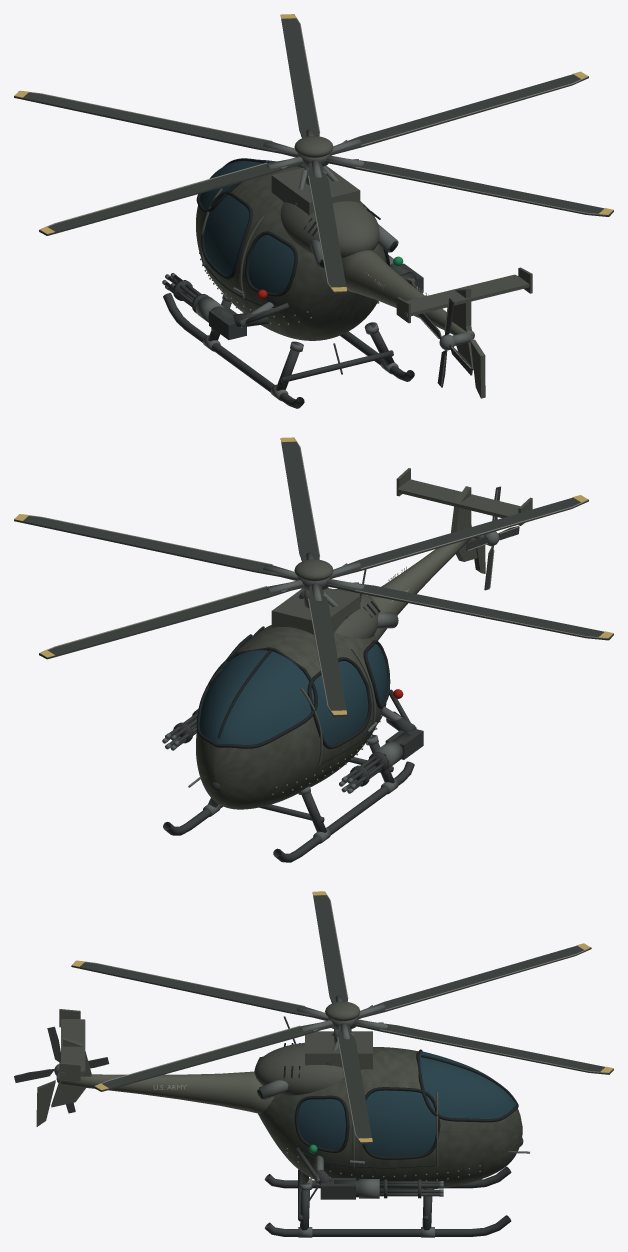
Rendered from ah6-centurion.glb.
3 views of the same model, one above another, from view 1: azimuth 30°, elevation 25°; view 2: azimuth 150°, elevation 25°; view 3: azimuth 270°, elevation 25° (orthographic). The views are drawn at different scales.
Visible parts, largest first — view 1: Main rotor blades, Fuselage, Tail, Canopy, Landing skids, Window frames, Main rotor, Weapon mounts, Weapons, Tail rotor blades; view 2: Main rotor blades, Fuselage, Canopy, Tail, Window frames, Landing skids, Weapons, Main rotor, Weapon mounts, Tail rotor blades; view 3: Fuselage, Main rotor blades, Canopy, Tail, Landing skids, Window frames, Main rotor, Weapons, Weapon mounts, Tail rotor blades.
Boxes of the visible parts, <box> form: Main rotor blades: <box>14,14,613,293</box>; Fuselage: <box>196,165,398,340</box>; Tail: <box>341,250,532,398</box>; Canopy: <box>199,159,294,292</box>; Landing skids: <box>163,293,414,408</box>; Window frames: <box>196,158,390,307</box>; Main rotor: <box>263,129,364,177</box>; Weapon mounts: <box>209,263,423,339</box>; Weapons: <box>162,255,408,322</box>; Tail rotor blades: <box>419,297,472,387</box>; Main rotor blades: <box>14,438,613,717</box>; Fuselage: <box>196,588,398,809</box>; Canopy: <box>199,644,387,745</box>; Tail: <box>367,468,532,640</box>; Window frames: <box>196,626,390,765</box>; Landing skids: <box>163,735,414,862</box>; Weapons: <box>162,708,410,793</box>; Main rotor: <box>263,552,364,601</box>; Weapon mounts: <box>381,689,423,759</box>; Tail rotor blades: <box>466,486,519,590</box>; Fuselage: <box>254,1031,522,1189</box>; Main rotor blades: <box>71,892,613,1144</box>; Canopy: <box>297,1051,516,1156</box>; Tail: <box>36,1009,273,1126</box>; Landing skids: <box>264,1166,511,1237</box>; Window frames: <box>294,1049,518,1168</box>; Main rotor: <box>296,995,388,1039</box>; Weapons: <box>334,1179,443,1198</box>; Weapon mounts: <box>295,1147,355,1199</box>; Tail rotor blades: <box>14,1026,109,1113</box>.
Bounding box in the file's own units: 8.07 × 3.11 × 8.13.
14 materials, 1 textured.
